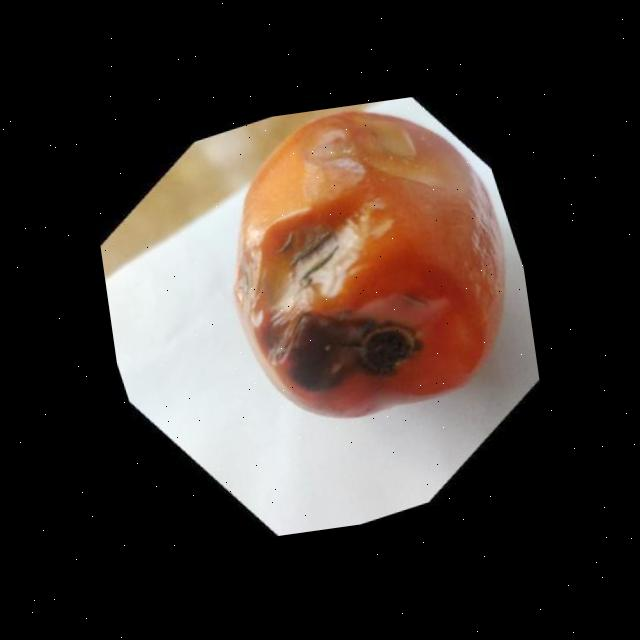tomato: (201, 87, 528, 445)
